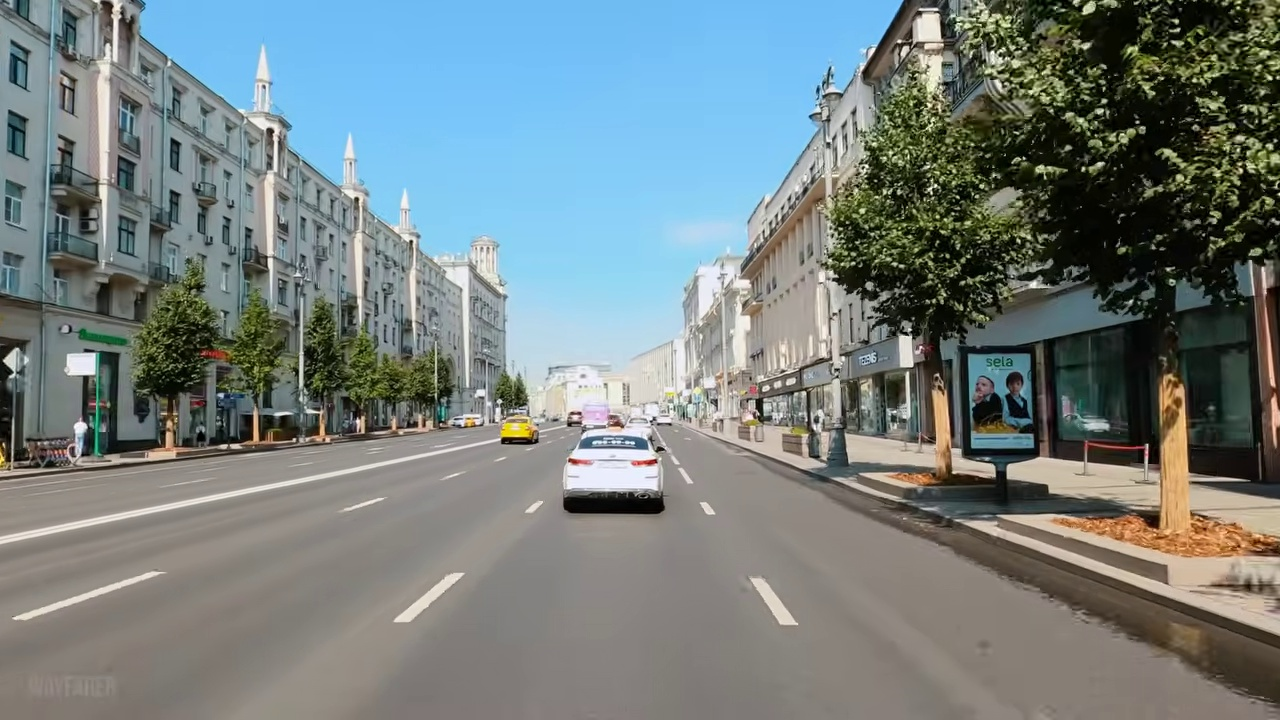apagada: (806, 66, 843, 129)
